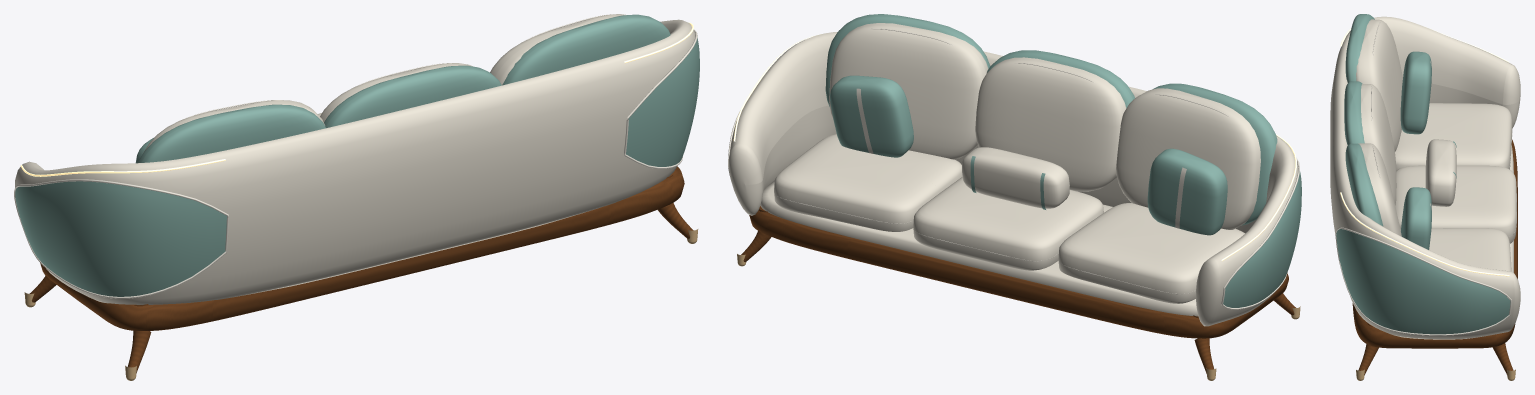
The model's file is metapetal-sofa.glb.
3 views of the same model, side by side, from view 1: azimuth 30°, elevation 25°; view 2: azimuth 150°, elevation 25°; view 3: azimuth 270°, elevation 25° (orthographic). The views are drawn at different scales.
Parts seen in each view (by area): view 1: 02_Upholstered_shell, 03_Seafoam_insets, 01_Walnut_frame, 07_Petal_back_cushions, 06_Tailoring, 05_Metal_details; view 2: 07_Petal_back_cushions, 04_Three_seat_cushions, 02_Upholstered_shell, 08_Throw_pillows, 01_Walnut_frame, 03_Seafoam_insets, 06_Tailoring, 05_Metal_details; view 3: 03_Seafoam_insets, 04_Three_seat_cushions, 02_Upholstered_shell, 07_Petal_back_cushions, 08_Throw_pillows, 01_Walnut_frame, 06_Tailoring, 05_Metal_details.
Boxes of the visible parts, left/top/right/bottom form: 02_Upholstered_shell: left=15, top=19, right=695, bottom=304; 03_Seafoam_insets: left=15, top=14, right=699, bottom=296; 01_Walnut_frame: left=29, top=166, right=693, bottom=373; 07_Petal_back_cushions: left=143, top=14, right=626, bottom=152; 06_Tailoring: left=14, top=14, right=697, bottom=298; 05_Metal_details: left=20, top=22, right=698, bottom=380; 07_Petal_back_cushions: left=829, top=23, right=1260, bottom=229; 04_Three_seat_cushions: left=774, top=134, right=1244, bottom=303; 02_Upholstered_shell: left=729, top=32, right=1298, bottom=326; 08_Throw_pillows: left=830, top=75, right=1227, bottom=235; 01_Walnut_frame: left=741, top=206, right=1295, bottom=373; 03_Seafoam_insets: left=825, top=14, right=1301, bottom=307; 06_Tailoring: left=728, top=28, right=1299, bottom=309; 05_Metal_details: left=733, top=36, right=1300, bottom=380; 03_Seafoam_insets: left=1336, top=14, right=1510, bottom=334; 04_Three_seat_cushions: left=1395, top=103, right=1516, bottom=271; 02_Upholstered_shell: left=1330, top=16, right=1520, bottom=339; 07_Petal_back_cushions: left=1356, top=19, right=1402, bottom=236; 08_Throw_pillows: left=1400, top=51, right=1456, bottom=249; 01_Walnut_frame: left=1352, top=139, right=1517, bottom=375; 06_Tailoring: left=1335, top=22, right=1516, bottom=335; 05_Metal_details: left=1340, top=27, right=1515, bottom=380.
Size of what is drawn, in the model's own units: 3.12 by 1.15 by 1.08.
Materials: 8 (1 with a texture image).
